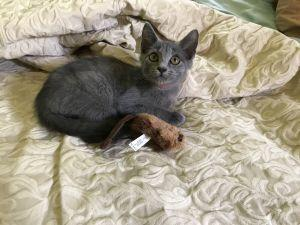rblue: (128, 16, 206, 97)
